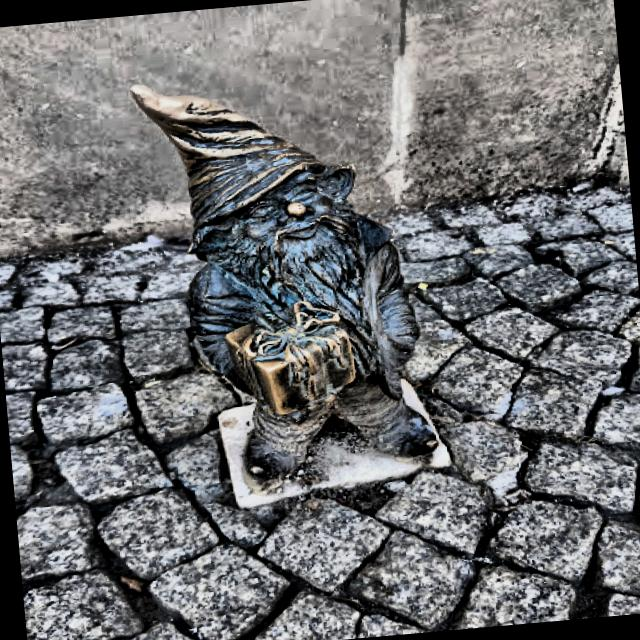Suvenirek: (134, 87, 438, 491)
